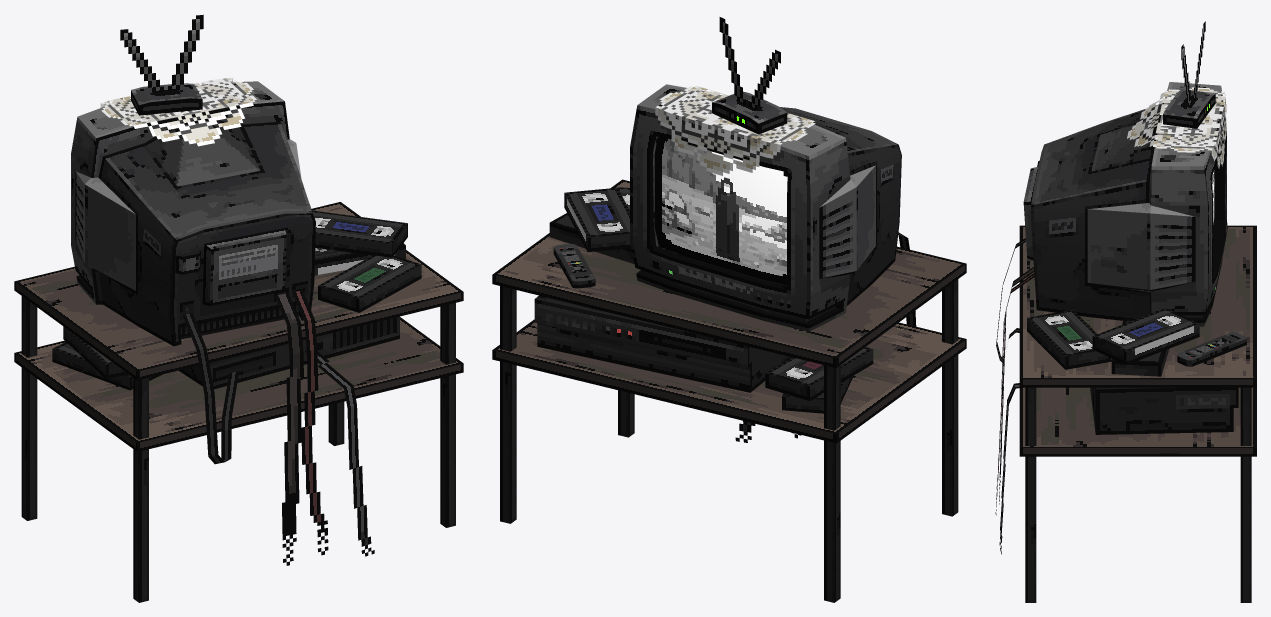
File: old-tv.glb
3 renders of one model, left to right at view 1: azimuth 30°, elevation 25°; view 2: azimuth 150°, elevation 25°; view 3: azimuth 270°, elevation 25°, orthographic. The views are drawn at different scales.
Visible parts, largest first — view 1: tv; view 2: tv; view 3: tv.
Part boxes in pixels (x1=…): tv: x1=14, y1=14, x2=463, y2=602; tv: x1=492, y1=17, x2=966, y2=602; tv: x1=995, y1=21, x2=1256, y2=602.
Size of the model in its own units: 0.7889 by 1.14 by 0.5692.
1 material, 1 textured.
